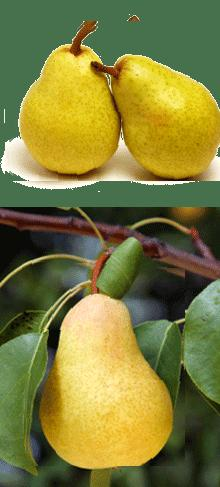Pear Fresh: (5, 21, 220, 181), (23, 260, 186, 466)
